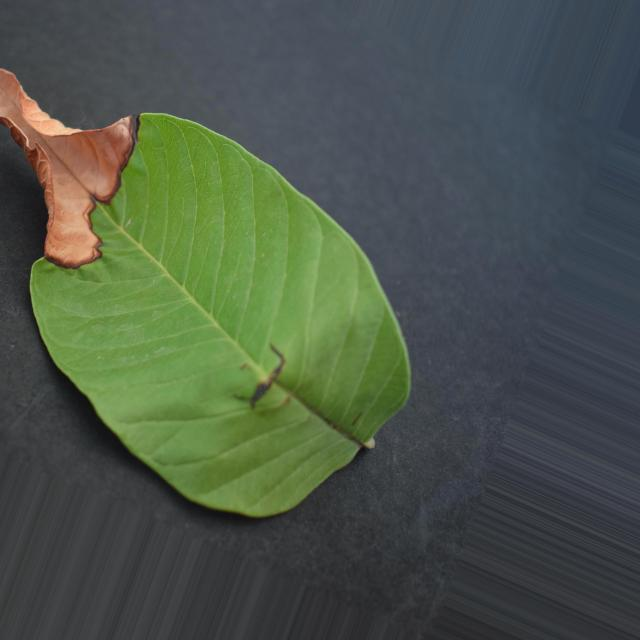Mummification: (0, 69, 410, 516)
